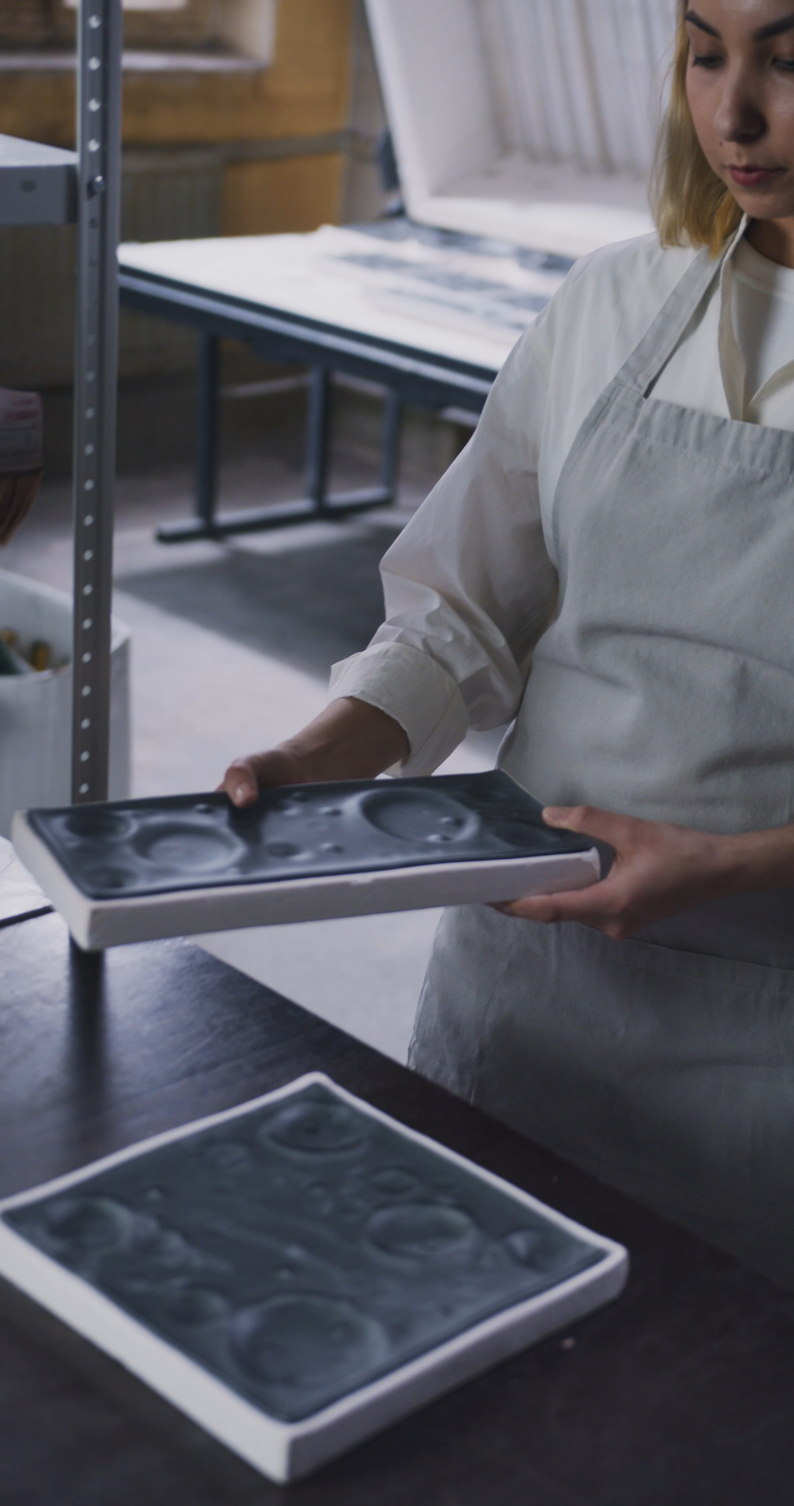No-gloves: (483, 771, 776, 967), (184, 680, 445, 833)
